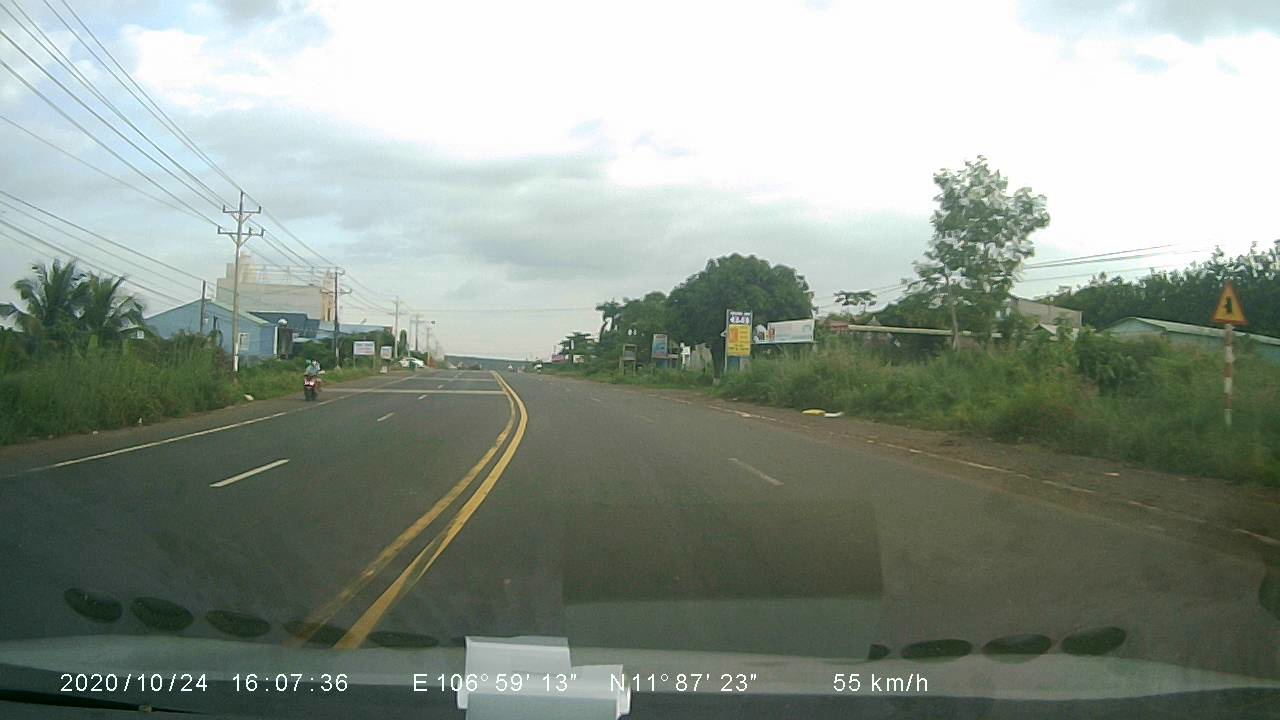Giao nhau voi duong khong uu tien: (1207, 280, 1250, 327)
